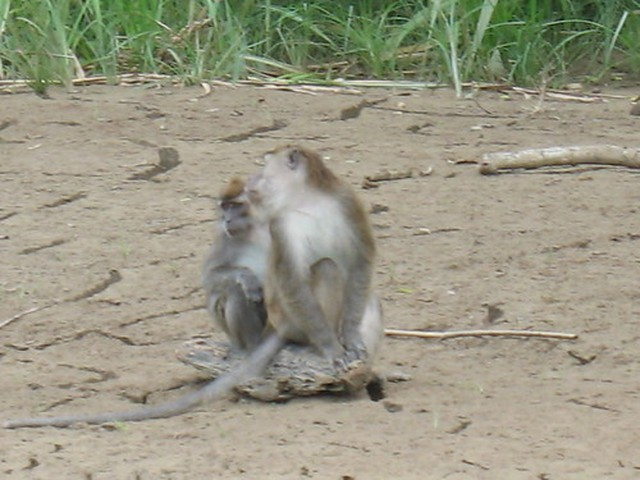Monkey: (189, 142, 375, 402)
